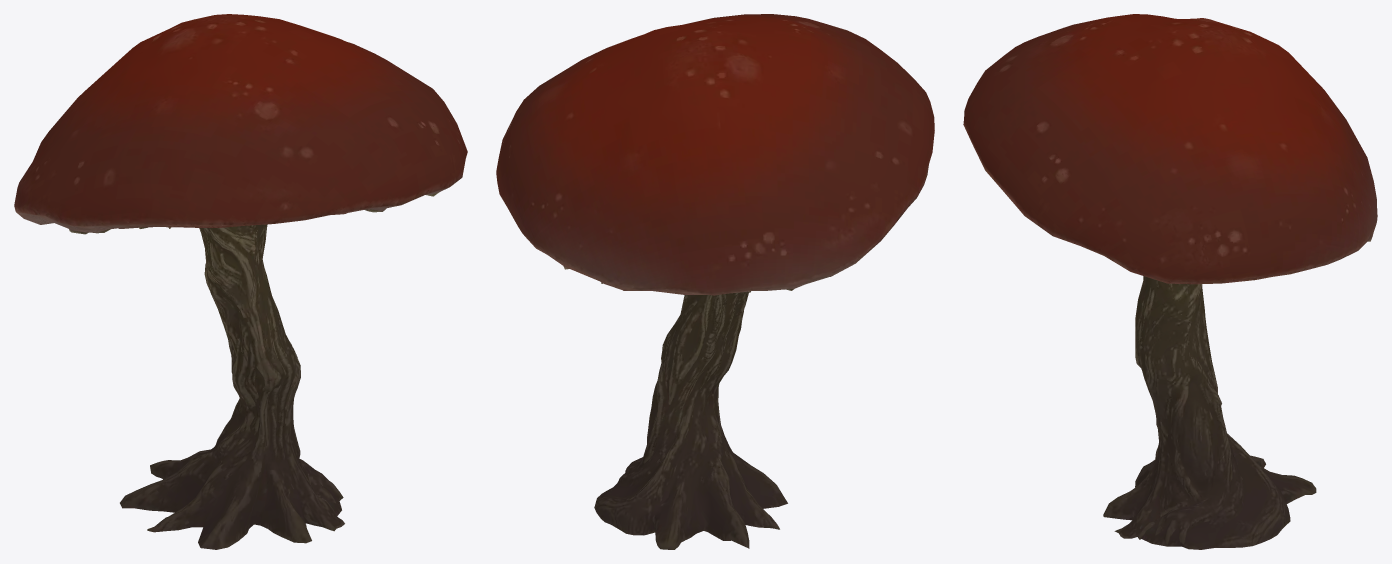
The model's file is mushroom_tree.glb.
The picture shows the model from 3 angles, left to right: view 1: azimuth 30°, elevation 25°; view 2: azimuth 150°, elevation 25°; view 3: azimuth 270°, elevation 25°; orthographic projection. The views are drawn at different scales.
Visible parts, largest first — view 1: Plane.002_Mushroom_Tree_0; view 2: Plane.002_Mushroom_Tree_0; view 3: Plane.002_Mushroom_Tree_0.
Boxes of the visible parts, x1=… form: Plane.002_Mushroom_Tree_0: x1=14, y1=14, x2=467, y2=549; Plane.002_Mushroom_Tree_0: x1=496, y1=14, x2=934, y2=549; Plane.002_Mushroom_Tree_0: x1=963, y1=14, x2=1377, y2=549.
Size of the model in its own units: 3.71 by 4.3 by 3.41.
1 material, 1 textured.
